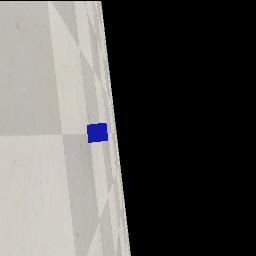box: (87, 123, 108, 143)
